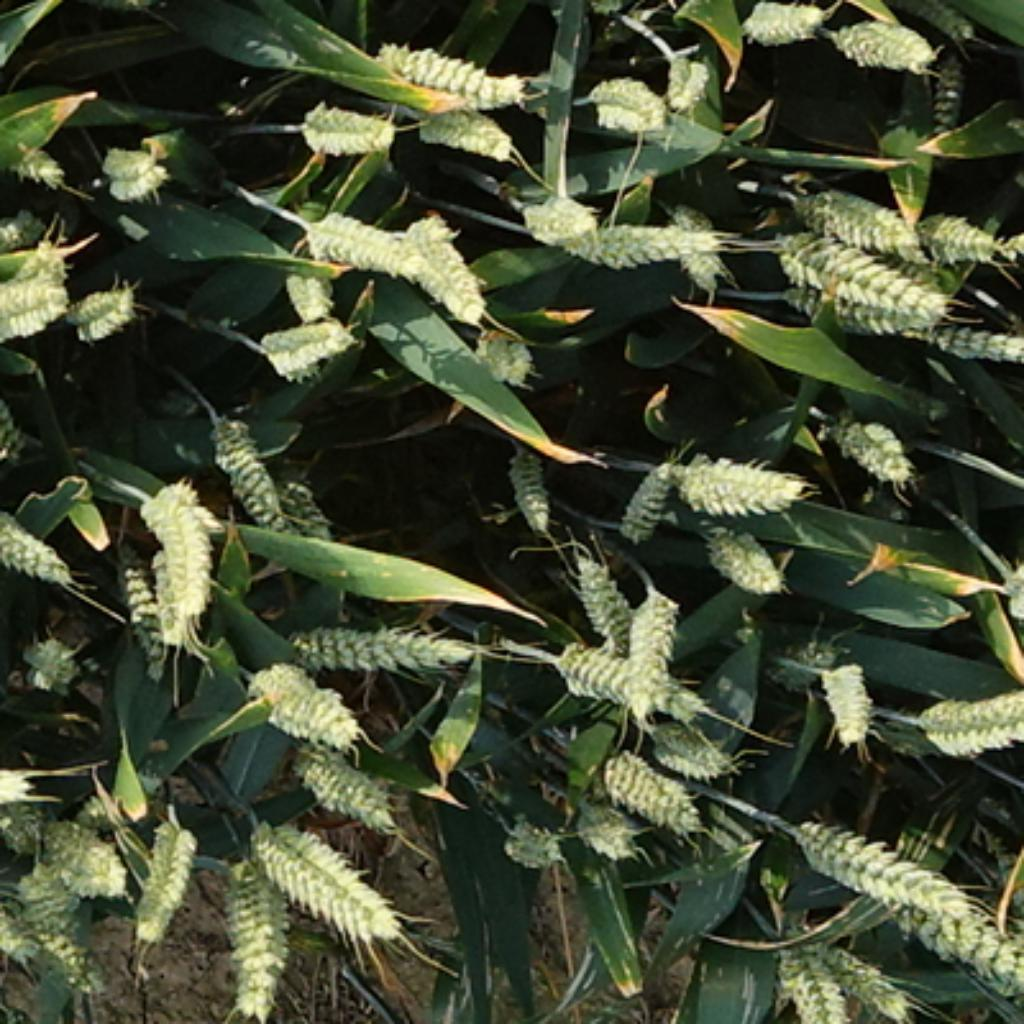0-0: (791, 808, 993, 924), (240, 814, 407, 939), (762, 227, 954, 317), (550, 640, 727, 716), (896, 898, 1024, 998), (137, 477, 217, 634), (204, 407, 304, 522), (218, 873, 295, 1021), (376, 40, 532, 112), (281, 609, 463, 670), (785, 179, 921, 256), (243, 652, 358, 739), (663, 445, 806, 514), (12, 862, 92, 983), (399, 209, 488, 314), (312, 209, 445, 279), (596, 747, 704, 829), (821, 399, 926, 483), (289, 739, 399, 819), (563, 220, 734, 271), (619, 586, 680, 727), (135, 811, 199, 944), (821, 939, 921, 1021), (775, 286, 936, 335), (906, 691, 1024, 757), (40, 811, 130, 896), (0, 481, 71, 583), (824, 5, 939, 66), (701, 522, 791, 599), (775, 934, 852, 1024), (256, 304, 355, 373), (297, 94, 405, 155), (576, 550, 642, 645), (668, 199, 727, 304), (808, 645, 875, 737), (279, 471, 355, 552), (611, 455, 680, 542), (407, 97, 517, 151), (514, 179, 604, 245), (122, 545, 166, 680), (645, 719, 737, 780), (583, 64, 668, 130), (504, 440, 563, 532), (757, 627, 844, 688), (921, 215, 1008, 273), (94, 138, 168, 202), (71, 280, 148, 341), (0, 751, 68, 818), (463, 317, 537, 378), (148, 547, 189, 657), (883, 0, 983, 43), (0, 280, 70, 341), (496, 811, 565, 867), (15, 624, 76, 686), (911, 325, 1018, 360), (573, 801, 634, 862), (931, 43, 967, 145), (660, 40, 714, 107), (737, 0, 826, 40), (2, 140, 69, 192), (276, 261, 332, 314), (0, 241, 74, 281), (0, 202, 49, 249), (0, 872, 25, 954)
